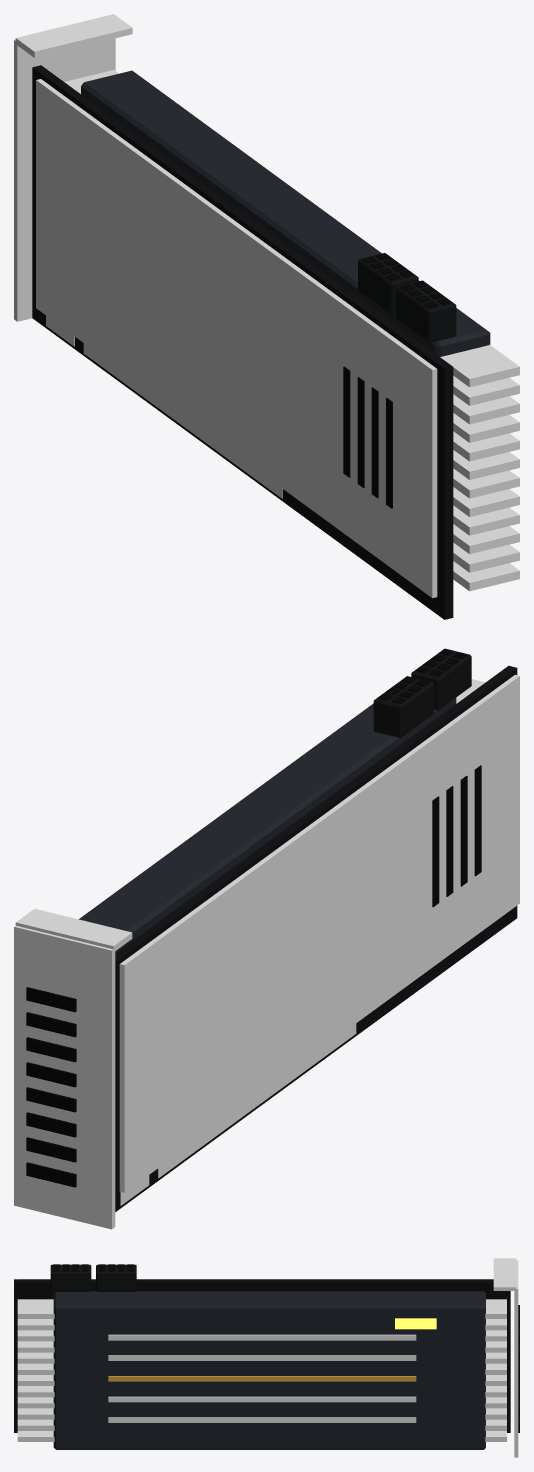
The model's file is hw_gpu_a40.glb.
3 renders of one model, top to bottom at view 1: azimuth 30°, elevation 25°; view 2: azimuth 150°, elevation 25°; view 3: azimuth 270°, elevation 25°, orthographic. The views are drawn at different scales.
Visible parts, largest first — view 1: Body; view 2: Body; view 3: Body.
Boxes of the visible parts, x1,y1,x2,y2 form: Body: [14, 14, 519, 619]; Body: [14, 648, 519, 1229]; Body: [14, 1258, 519, 1457].
Size of the model in its own units: 0.036 by 0.1006 by 0.2668.
